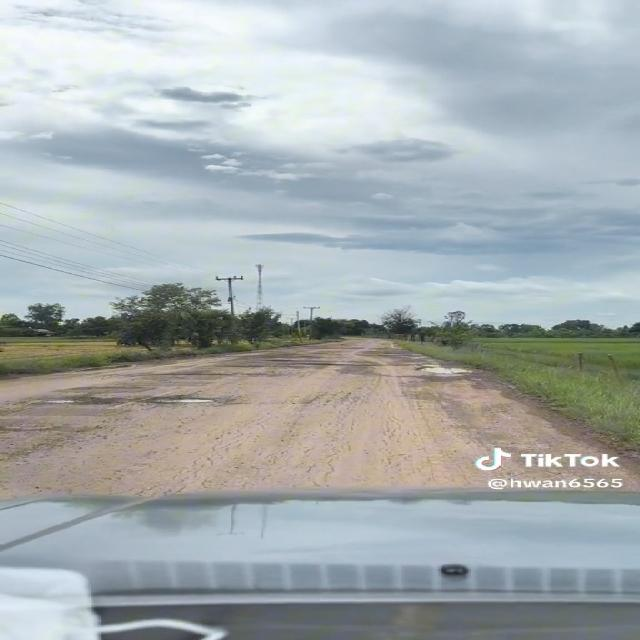Poth-hole: (198, 406, 406, 486)
